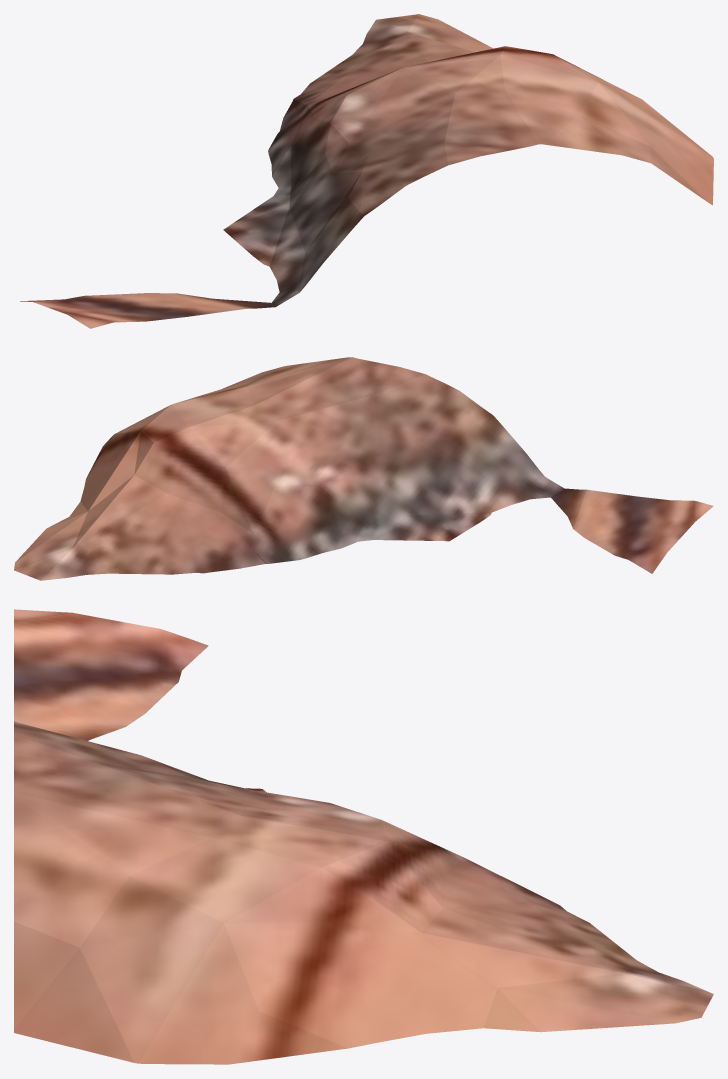
3 views of the same model, one above another, from view 1: azimuth 30°, elevation 25°; view 2: azimuth 150°, elevation 25°; view 3: azimuth 270°, elevation 25° (orthographic). The views are drawn at different scales.
Size of the model in its own units: 0.4821 by 0.0724 by 0.3405.
Materials: 1 (1 with a texture image).
